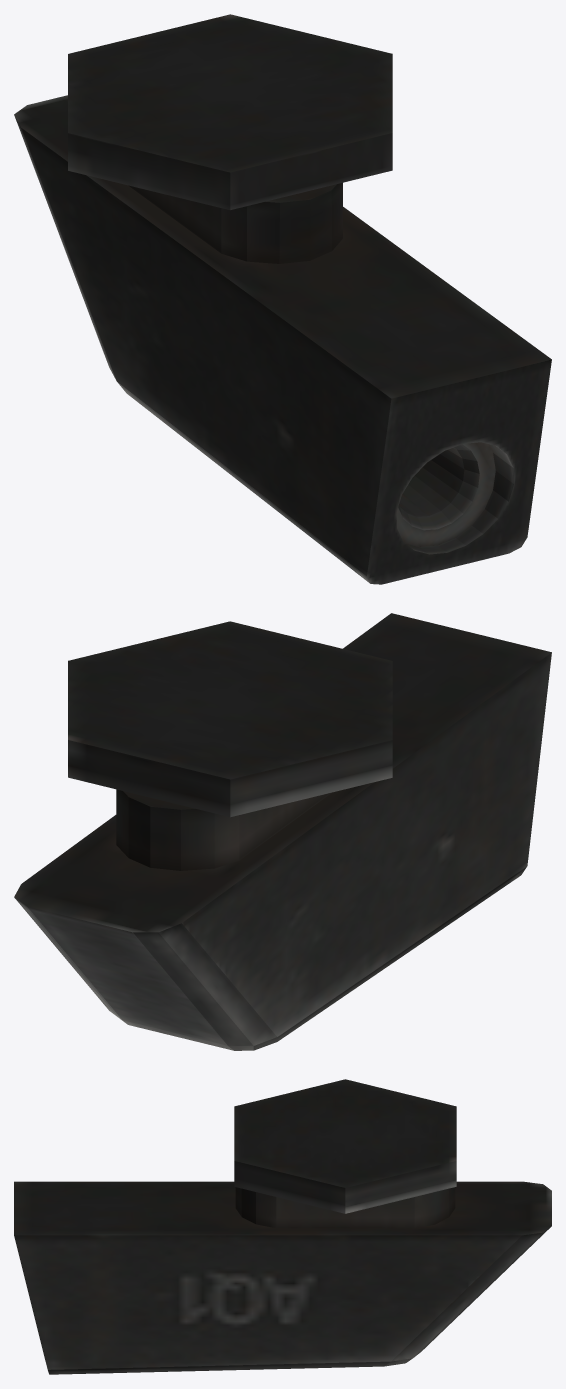
The picture shows the model from 3 angles, top to bottom: view 1: azimuth 30°, elevation 25°; view 2: azimuth 150°, elevation 25°; view 3: azimuth 270°, elevation 25°; orthographic projection. The views are drawn at different scales.
Visible parts, largest first — view 1: TW_630765777d50ff5e8a1ea718_PZ_Import; view 2: TW_630765777d50ff5e8a1ea718_PZ_Import; view 3: TW_630765777d50ff5e8a1ea718_PZ_Import.
Part boxes in pixels (x1,y1,x2,y2): TW_630765777d50ff5e8a1ea718_PZ_Import: (14,14,551,584); TW_630765777d50ff5e8a1ea718_PZ_Import: (14,613,551,1050); TW_630765777d50ff5e8a1ea718_PZ_Import: (14,1079,551,1374).
Bounding box in the file's own units: 0.00364 × 0.00761 × 0.00341.
1 material, 1 textured.
